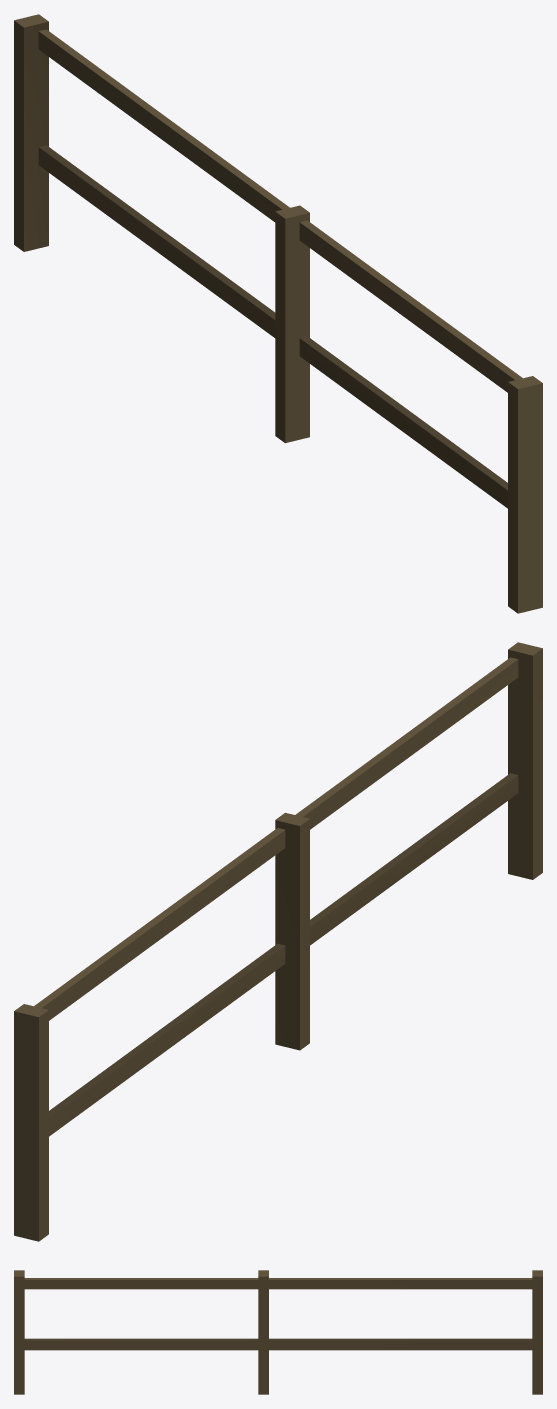
The model's file is Wood_FenceThin.fbx.
The picture shows the model from 3 angles, top to bottom: view 1: azimuth 30°, elevation 25°; view 2: azimuth 150°, elevation 25°; view 3: azimuth 270°, elevation 25°; orthographic projection. The views are drawn at different scales.
Parts seen in each view (by area): view 1: Wood_FenceThin; view 2: Wood_FenceThin; view 3: Wood_FenceThin.
Boxes of the visible parts, left/top/right/bottom form: Wood_FenceThin: left=14, top=14, right=542, bottom=613; Wood_FenceThin: left=14, top=642, right=542, bottom=1241; Wood_FenceThin: left=14, top=1270, right=542, bottom=1394.
Bounding box in the file's own units: 0.0103 × 0.0882 × 0.3592.
